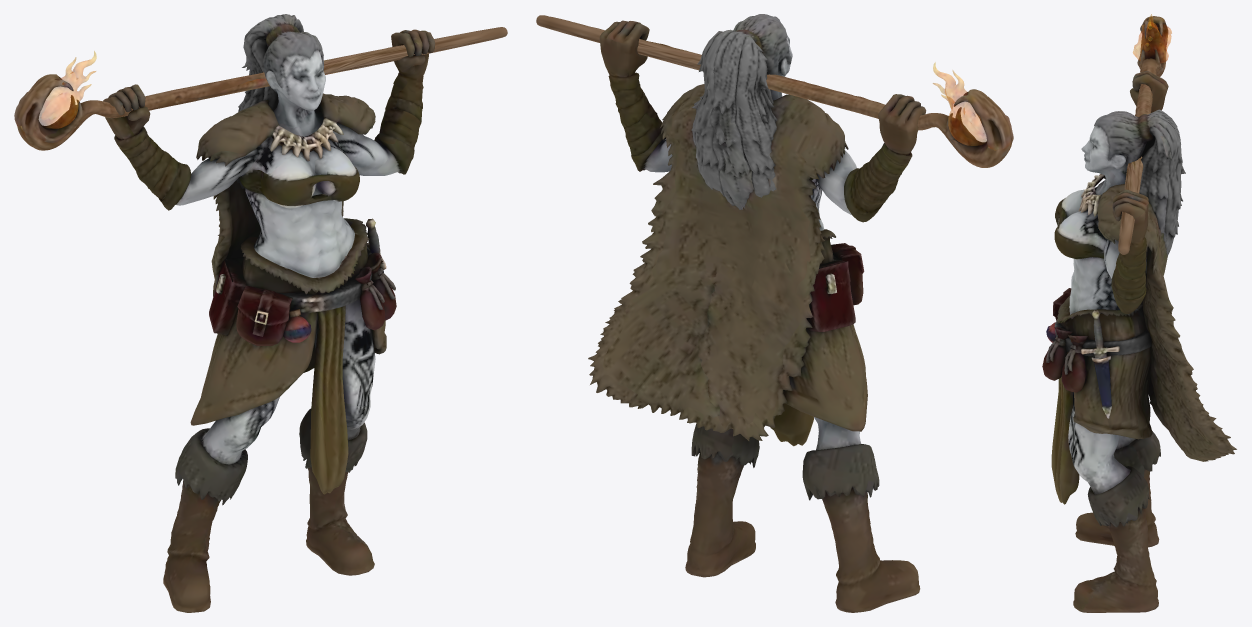
Rendered from MZ4250 - Arch Druid Female_gol_Wildfire.glb.
The picture shows the model from 3 angles, left to right: view 1: azimuth 30°, elevation 25°; view 2: azimuth 150°, elevation 25°; view 3: azimuth 270°, elevation 25°; orthographic projection. The views are drawn at different scales.
Parts seen in each view (by area): view 1: Wildfire; view 2: Wildfire; view 3: Wildfire.
Part boxes in pixels (x1=…): Wildfire: x1=14, y1=14, x2=507, y2=612; Wildfire: x1=536, y1=14, x2=1013, y2=612; Wildfire: x1=1042, y1=14, x2=1236, y2=612.
Bounding box in the file's own units: 1872 × 2083 × 753.
2 materials, 2 textured.
